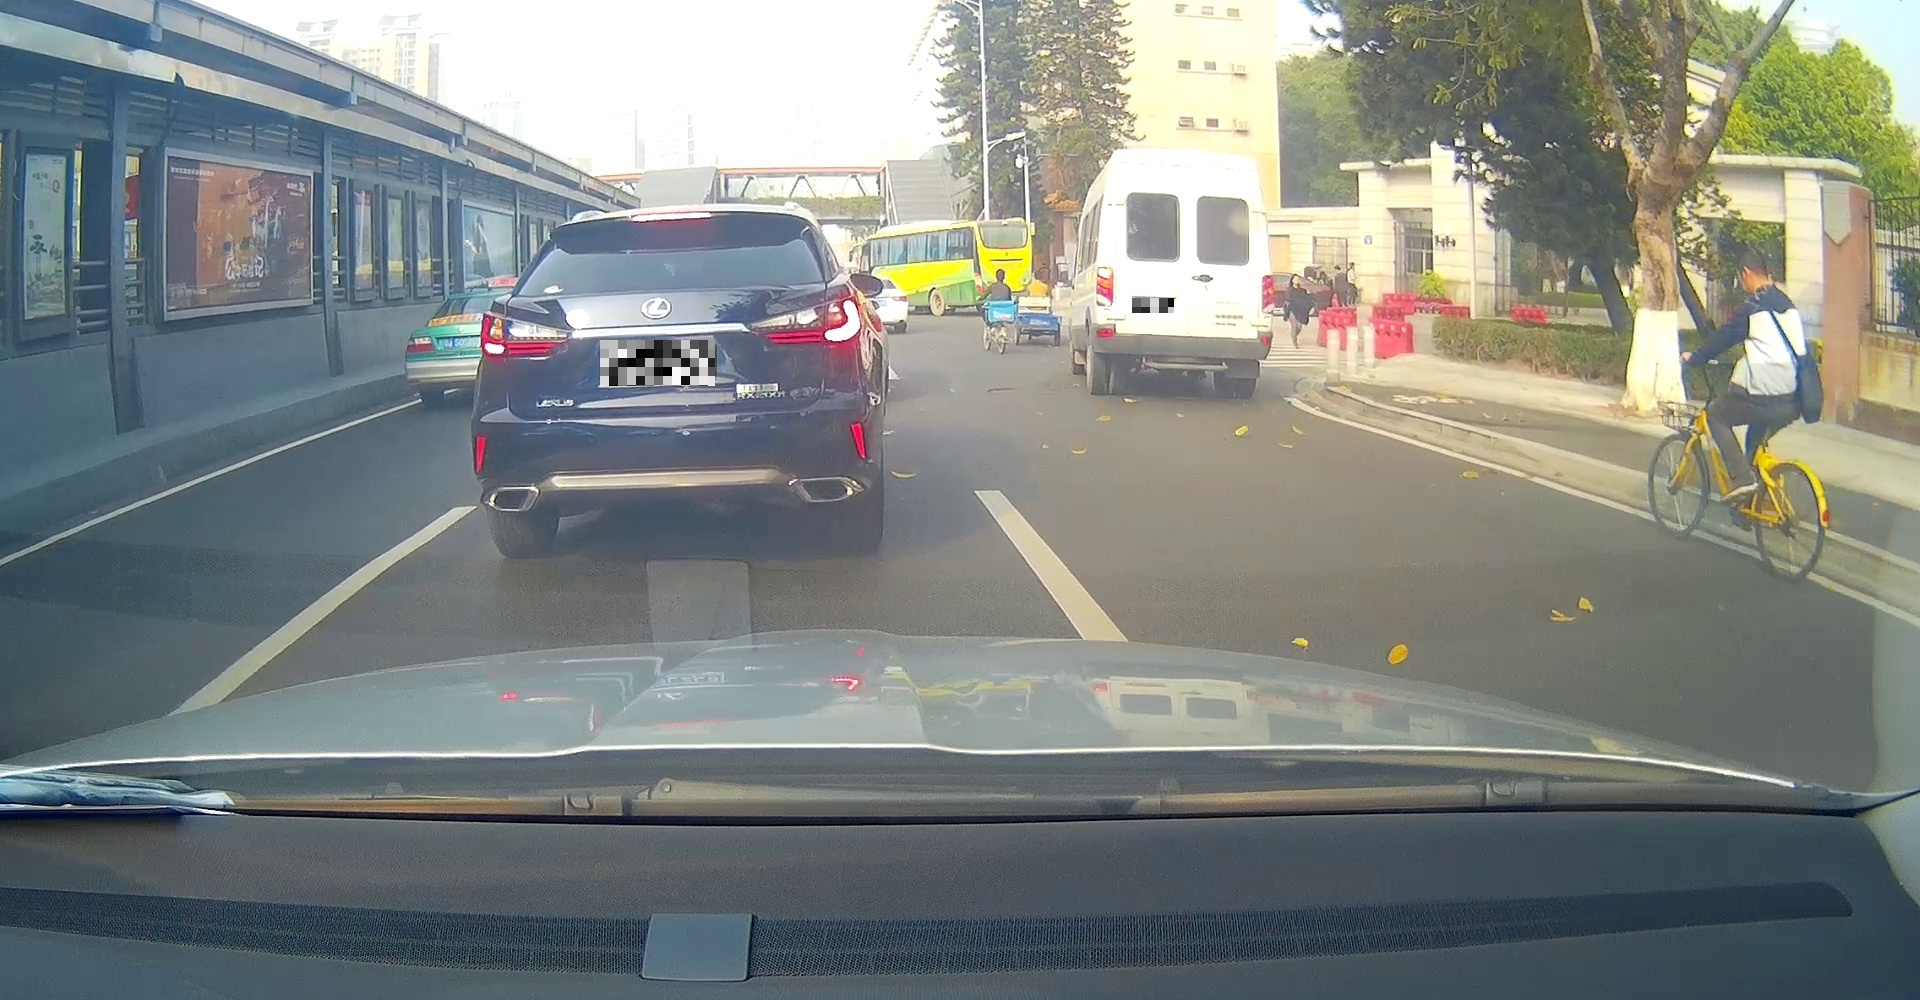L_light: (480, 311, 575, 359), (1096, 266, 1114, 307)
R_light: (744, 294, 862, 346), (1261, 275, 1274, 315)
T_light: (631, 212, 712, 222), (1175, 154, 1197, 156)
day-brake: (470, 201, 884, 558)
day-no: (1095, 148, 1274, 398)
plate_1: (599, 340, 715, 386)
plate_2: (1131, 298, 1175, 313)
